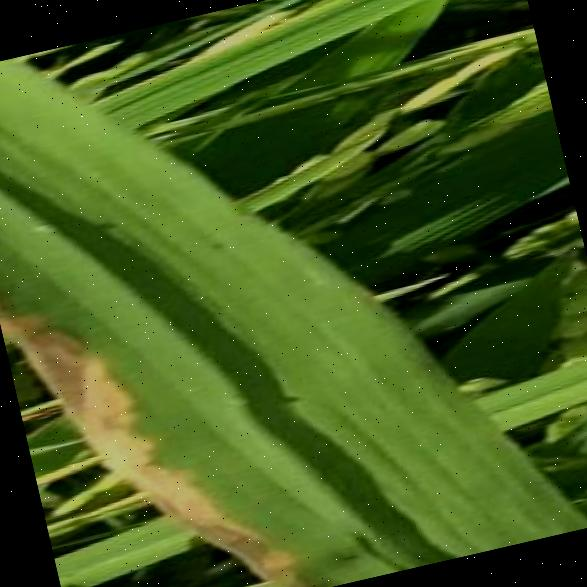Bacteria_Leaf_Blight: (0, 19, 425, 587)
